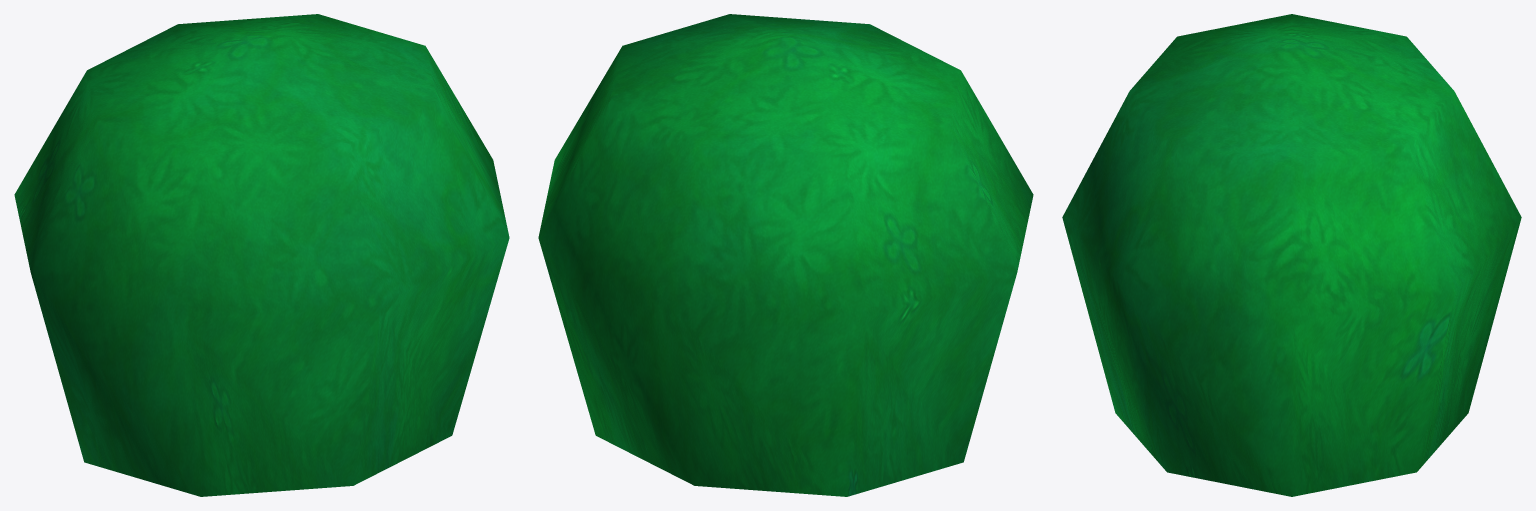
File: Plant01_a02.FBX
3 renders of one model, left to right at view 1: azimuth 30°, elevation 25°; view 2: azimuth 150°, elevation 25°; view 3: azimuth 270°, elevation 25°, orthographic. The views are drawn at different scales.
Parts seen in each view (by area): view 1: Plant01_a02; view 2: Plant01_a02; view 3: Plant01_a02.
Boxes of the visible parts, box(x1,y1,x2,y2) form: Plant01_a02: box(14, 14, 509, 496); Plant01_a02: box(538, 14, 1033, 496); Plant01_a02: box(1062, 14, 1521, 496).
Bounding box in the file's own units: 194 × 153 × 173.
Materials: 1 (1 with a texture image).
